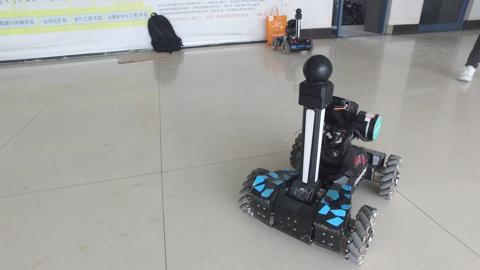bag: (144, 10, 184, 54), (264, 4, 289, 46)
chariot: (238, 53, 403, 266), (270, 6, 314, 54)
